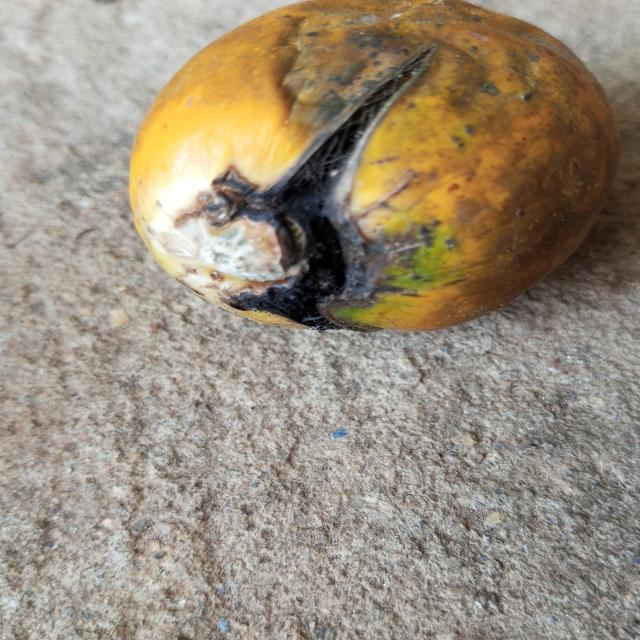damaged: (126, 0, 619, 335)
